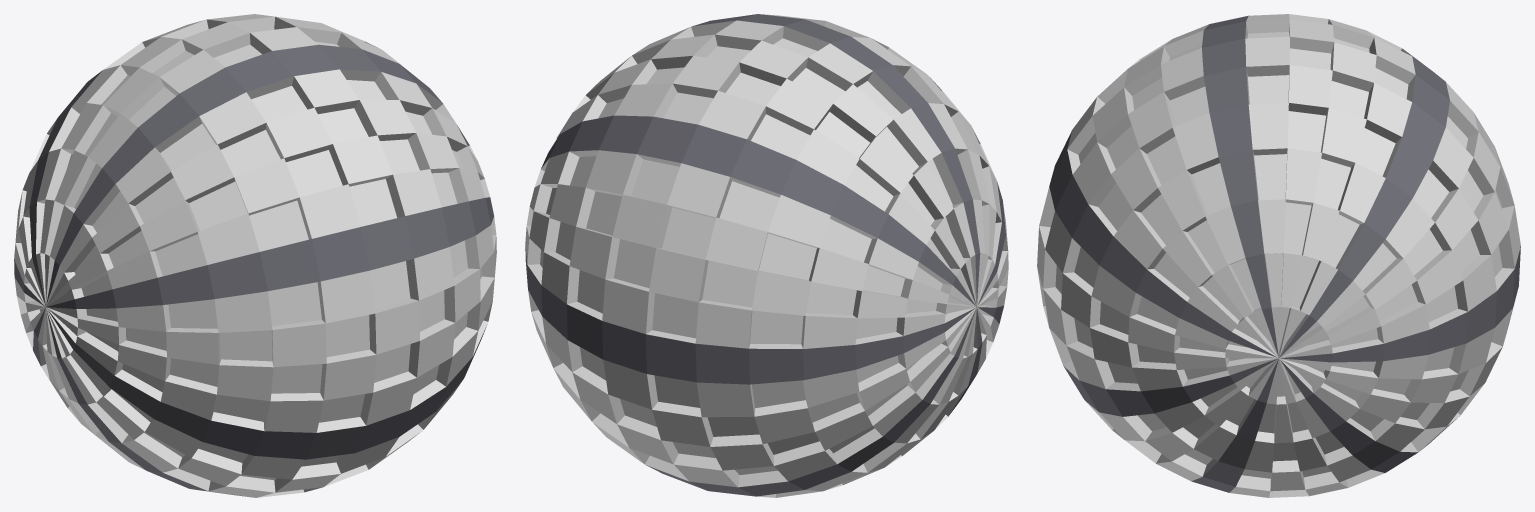
The model's file is top.fbx.
3 renders of one model, left to right at view 1: azimuth 30°, elevation 25°; view 2: azimuth 150°, elevation 25°; view 3: azimuth 270°, elevation 25°, orthographic.
Visible parts, largest first — view 1: Sphere; view 2: Sphere; view 3: Sphere.
Part boxes in pixels (box(x1,y1,x2,y2)): Sphere: box(14, 14, 496, 497); Sphere: box(525, 14, 1008, 497); Sphere: box(1037, 14, 1520, 497).
Size of the model in its own units: 439 by 439 by 439.
